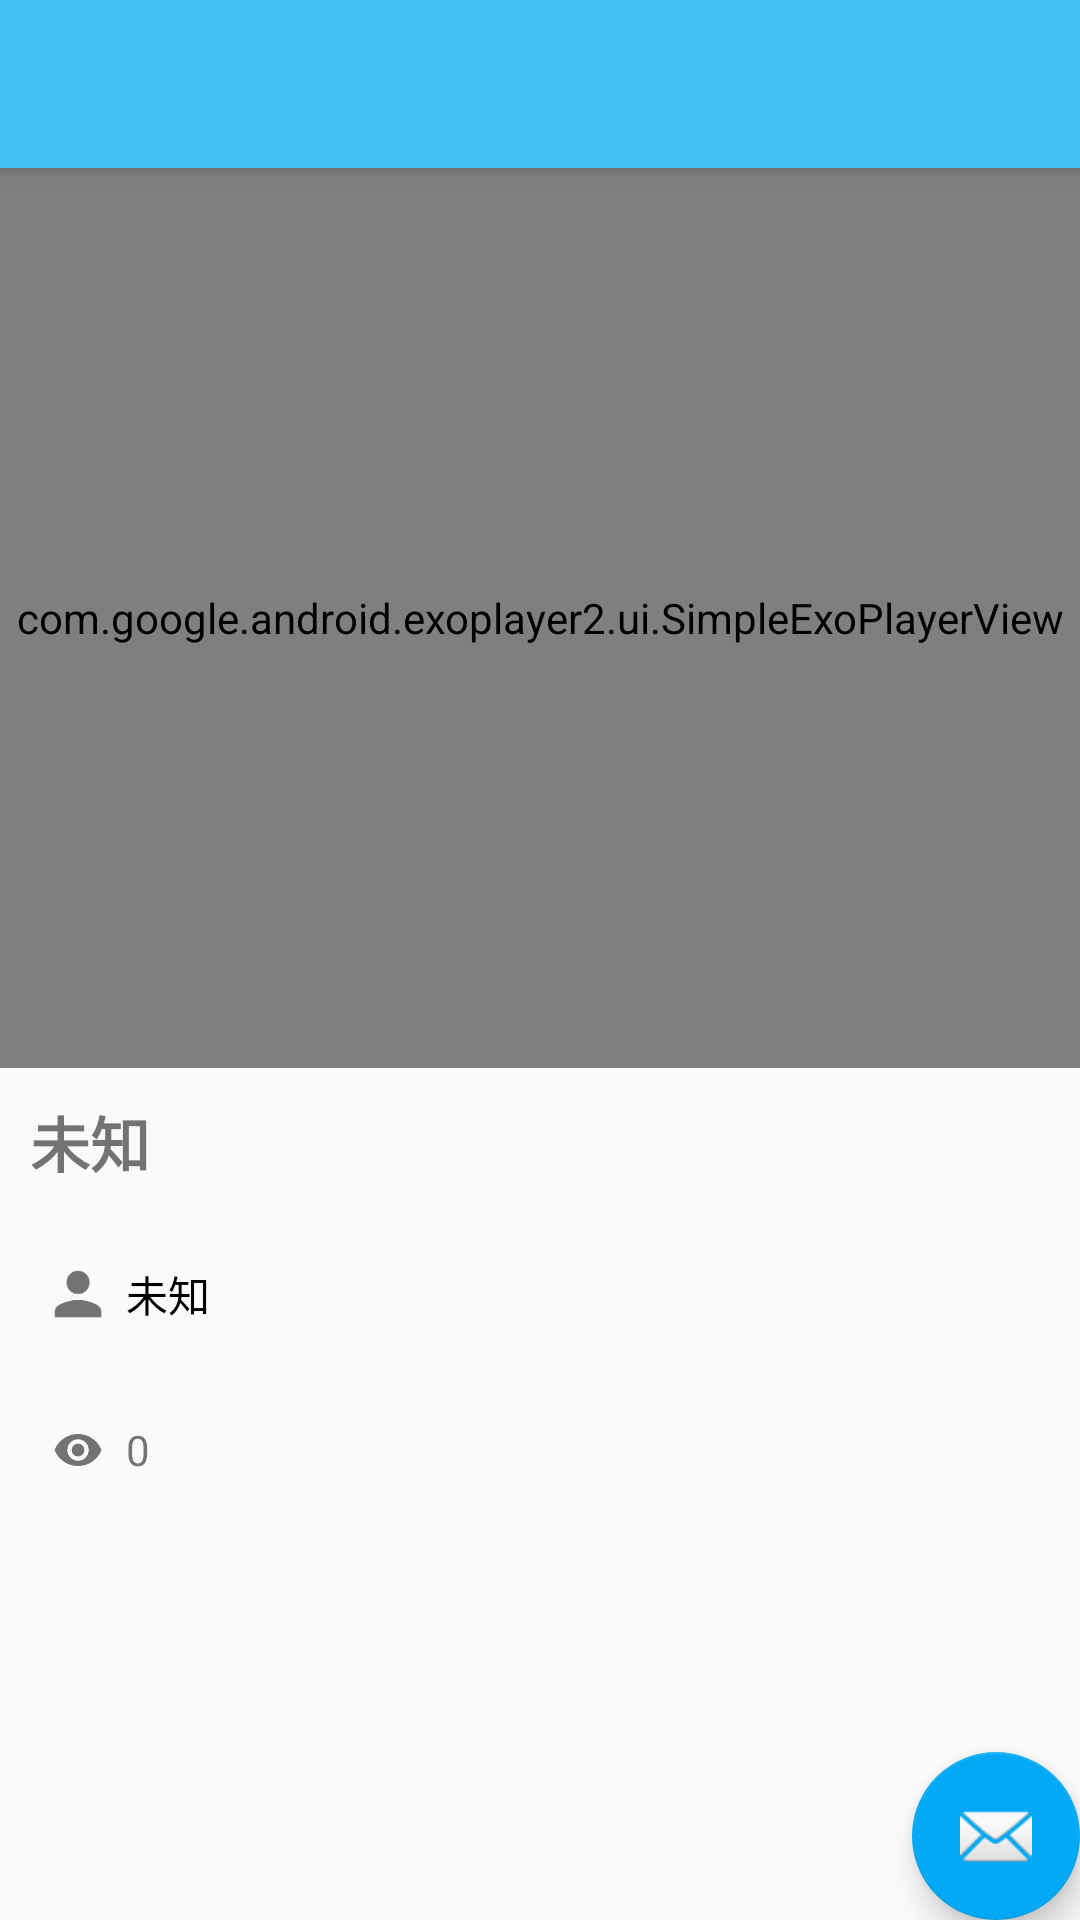

Named icons in this screenshot (1080px×1920px) and their bounding boxes, (x1, y1, x2, y2):
author: (54, 1271, 102, 1318)
email: (912, 1752, 1080, 1920)
eye: (54, 1434, 102, 1466)
